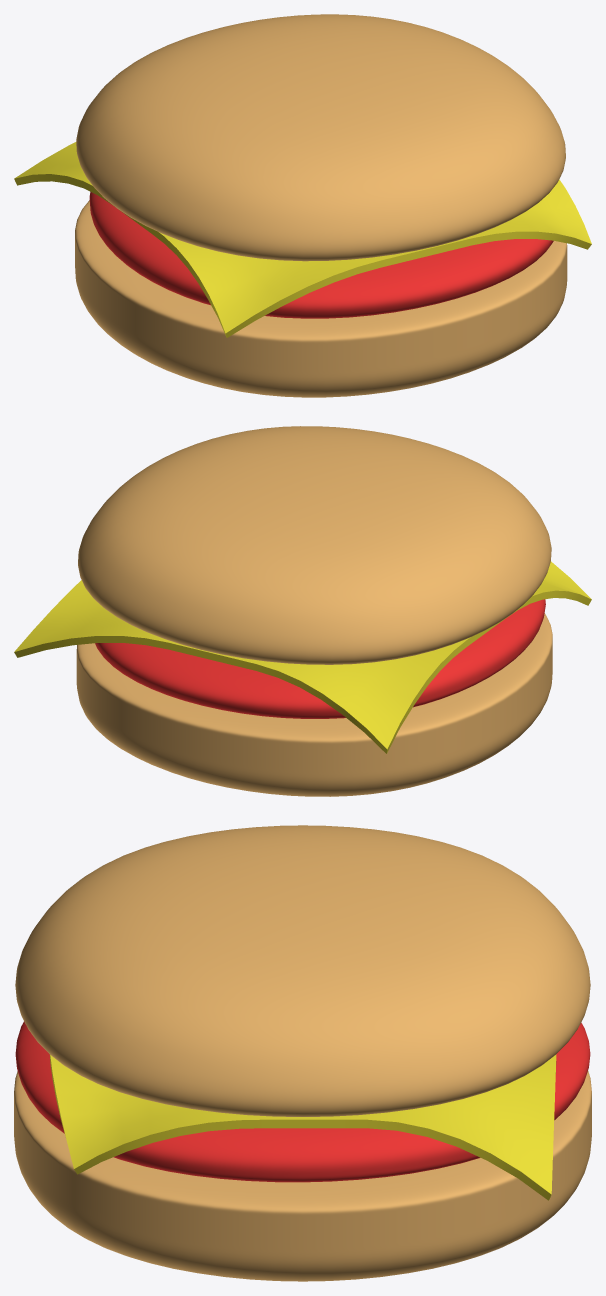
Rendered from hamburger.glb.
3 views of the same model, one above another, from view 1: azimuth 30°, elevation 25°; view 2: azimuth 150°, elevation 25°; view 3: azimuth 270°, elevation 25° (orthographic). The views are drawn at different scales.
Visible parts, largest first — view 1: top bun, btm bun, steack, cheese; view 2: top bun, btm bun, cheese, steack; view 3: top bun, btm bun, cheese, steack.
Part boxes in pixels (<box>): top bun: <box>76,14,565,261</box>; btm bun: <box>75,200,567,397</box>; steack: <box>89,192,553,318</box>; cheese: <box>14,142,591,337</box>; top bun: <box>78,426,551,664</box>; btm bun: <box>76,613,552,796</box>; cheese: <box>14,561,591,753</box>; steack: <box>95,599,545,718</box>; top bun: <box>15,825,590,1116</box>; btm bun: <box>14,1070,591,1281</box>; cheese: <box>49,1054,556,1200</box>; steack: <box>15,1021,590,1182</box>.
Bounding box in the file's own units: 1.83 × 1.06 × 1.83.
